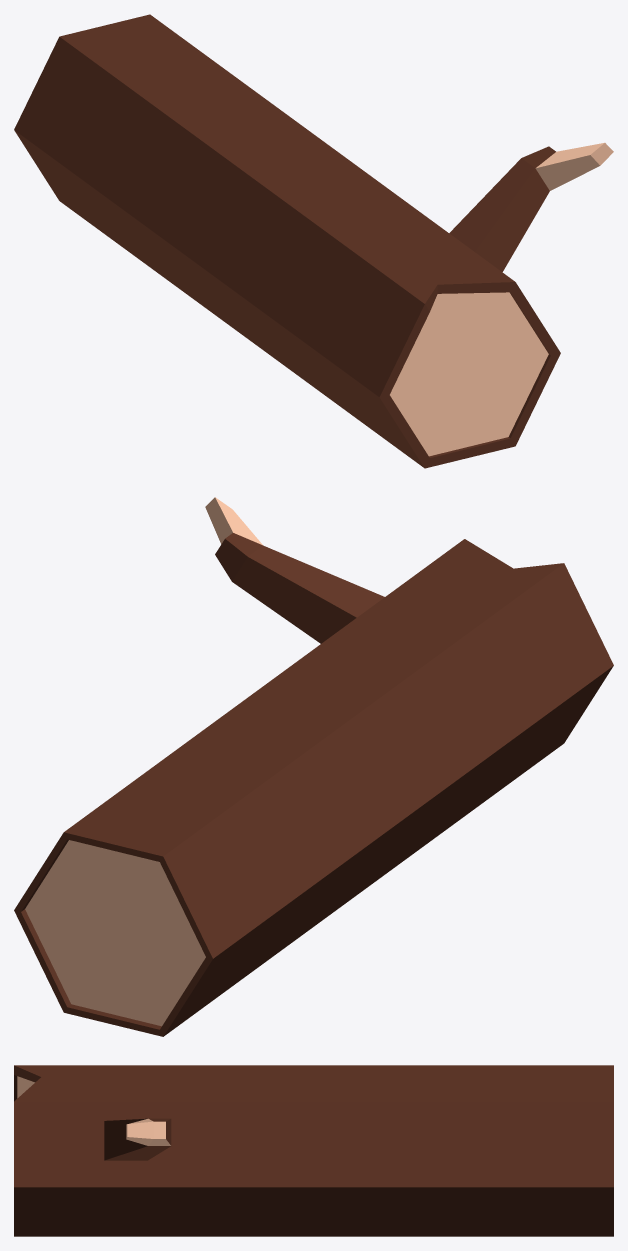
Rendered from Trunk.fbx.
3 views of the same model, one above another, from view 1: azimuth 30°, elevation 25°; view 2: azimuth 150°, elevation 25°; view 3: azimuth 270°, elevation 25° (orthographic). The views are drawn at different scales.
Visible parts, largest first — view 1: Trunk; view 2: Trunk; view 3: Trunk.
Boxes of the visible parts, x1,y1,x2,y2 form: Trunk: [14, 14, 613, 468]; Trunk: [14, 497, 613, 1036]; Trunk: [14, 1065, 613, 1236].
Bounding box in the file's own units: 335 × 226 × 698.
